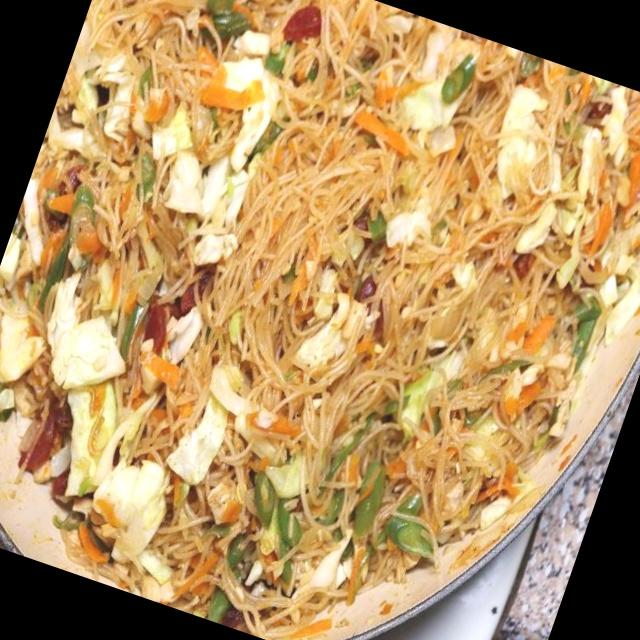pancit bihon: (2, 0, 639, 623)
